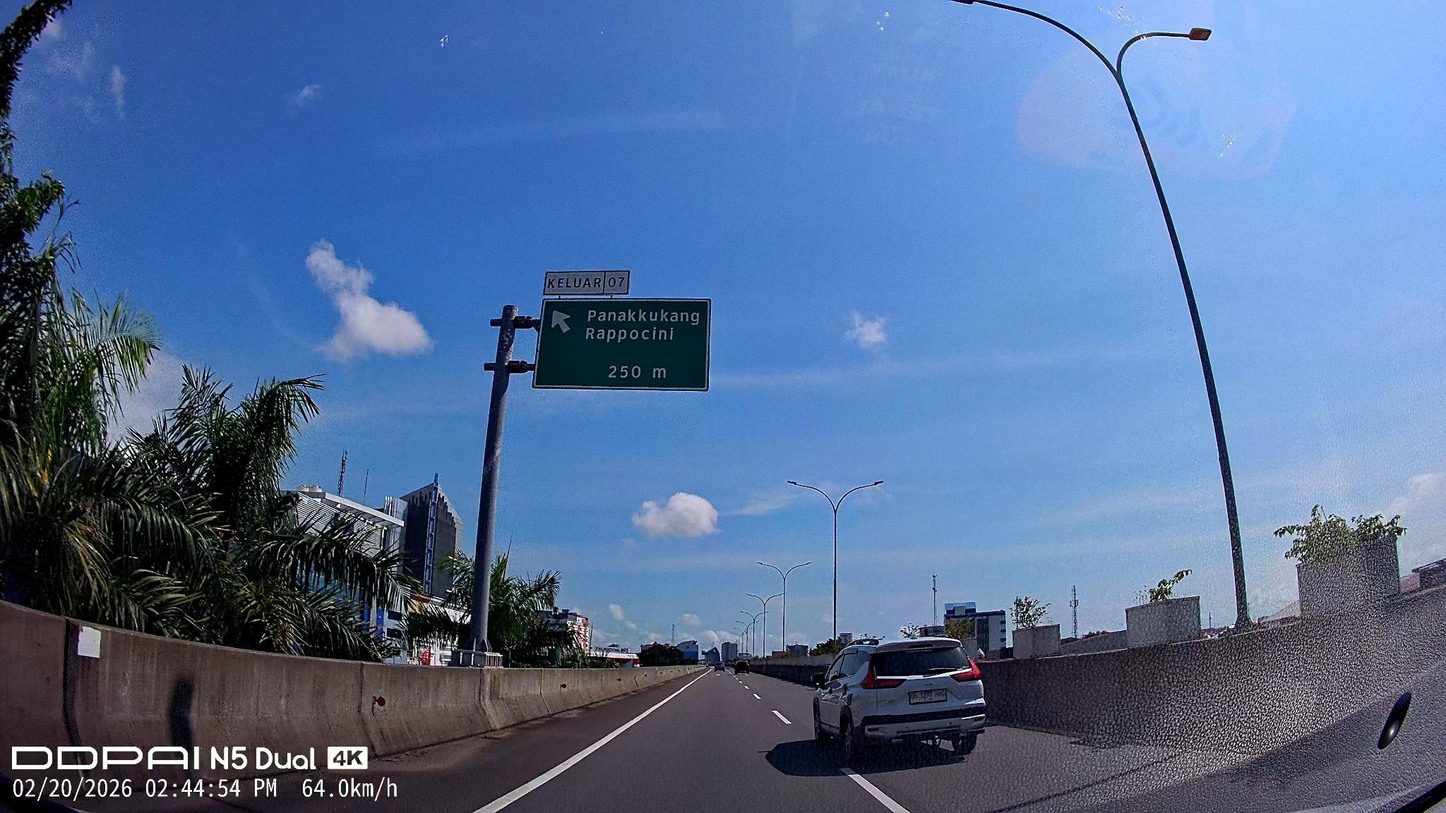rambu_teks: (531, 298, 713, 391)
